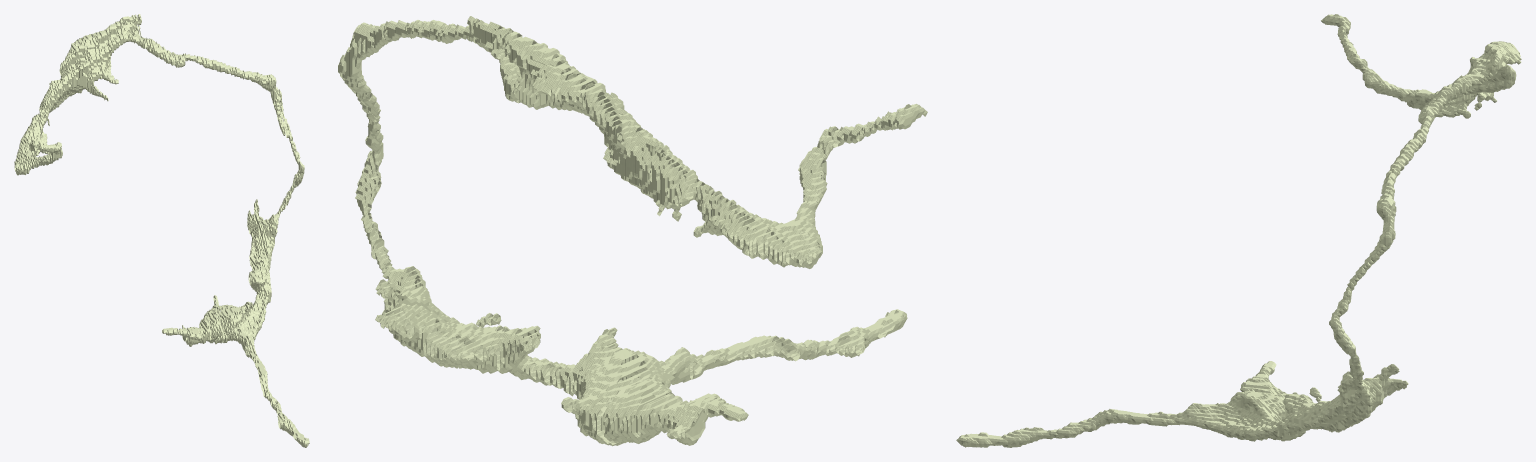
Rendered from SVV_RMDDL.gltf.
3 views of the same model, side by side, from view 1: azimuth 30°, elevation 25°; view 2: azimuth 150°, elevation 25°; view 3: azimuth 270°, elevation 25° (orthographic). The views are drawn at different scales.
Parts seen in each view (by area): view 1: RMDDL; view 2: RMDDL; view 3: RMDDL.
Part boxes in pixels (x1=…): RMDDL: x1=14, y1=14, x2=309, y2=447; RMDDL: x1=338, y1=16, x2=927, y2=446; RMDDL: x1=956, y1=14, x2=1521, y2=447.
Size of the model in its own units: 110918 by 110780 by 141112.
